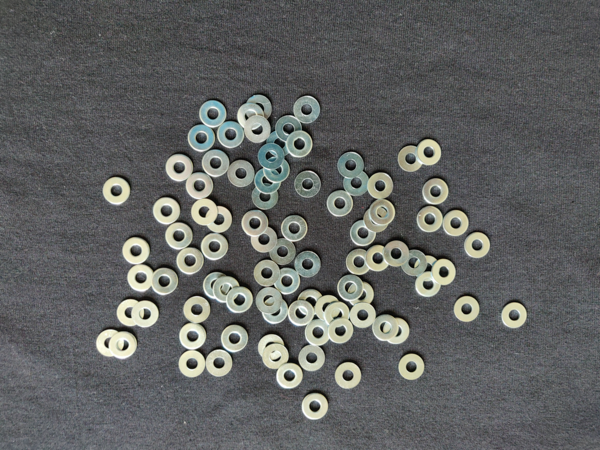circle: (500, 301, 531, 331), (294, 94, 324, 125), (102, 174, 131, 206), (182, 294, 212, 324), (176, 322, 207, 351), (278, 213, 309, 242), (397, 352, 426, 382), (164, 153, 194, 182), (186, 170, 215, 200), (96, 327, 124, 358), (301, 392, 330, 421), (221, 324, 250, 353), (201, 150, 230, 179), (164, 221, 193, 250), (125, 263, 154, 292), (276, 362, 304, 392), (443, 208, 471, 238), (420, 177, 450, 205), (205, 205, 233, 235), (201, 234, 231, 262), (396, 144, 423, 175), (384, 316, 410, 348), (178, 350, 206, 379), (269, 237, 297, 266), (241, 208, 269, 237), (294, 170, 322, 199), (286, 130, 314, 159), (267, 131, 296, 159), (153, 196, 181, 225), (109, 331, 137, 360), (245, 95, 275, 122), (218, 120, 245, 150), (189, 123, 215, 154), (415, 271, 443, 299), (256, 287, 284, 315), (253, 259, 281, 287), (342, 169, 370, 197), (227, 158, 255, 186), (191, 198, 219, 226), (176, 248, 204, 276), (414, 206, 443, 233), (338, 274, 365, 303), (294, 250, 321, 279), (325, 190, 354, 217), (250, 185, 279, 212), (198, 101, 227, 128), (152, 268, 179, 297), (368, 171, 394, 201), (372, 314, 399, 342), (299, 345, 326, 373), (257, 333, 285, 360), (464, 233, 492, 260), (413, 255, 440, 283), (401, 250, 429, 277), (345, 249, 373, 276), (349, 302, 377, 329), (261, 297, 288, 325), (226, 288, 254, 315), (122, 238, 150, 265), (133, 302, 160, 330), (117, 299, 144, 327), (336, 361, 362, 390), (261, 344, 290, 370), (416, 138, 442, 167), (274, 267, 300, 296), (236, 104, 265, 130), (203, 272, 229, 301), (214, 275, 239, 305), (305, 320, 332, 347), (349, 220, 376, 247), (338, 151, 365, 178), (454, 297, 482, 323), (205, 349, 233, 375), (329, 317, 355, 345), (369, 199, 397, 225), (245, 116, 271, 144), (383, 241, 410, 267), (288, 300, 314, 327), (251, 226, 277, 253), (276, 115, 302, 142), (257, 143, 284, 169), (254, 169, 281, 195), (365, 206, 390, 234), (297, 290, 324, 315), (367, 244, 390, 273), (348, 282, 374, 307), (325, 301, 350, 327), (264, 158, 291, 182), (433, 258, 456, 285), (316, 295, 338, 322)
